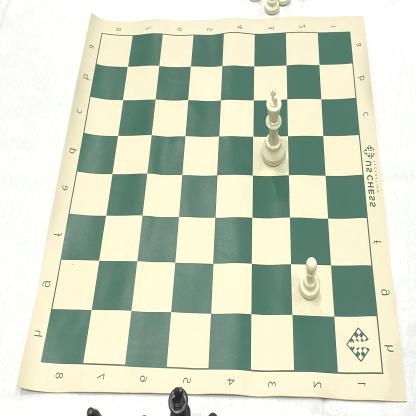white-king: (260, 86, 288, 170)
white-pawn: (296, 251, 324, 305)
